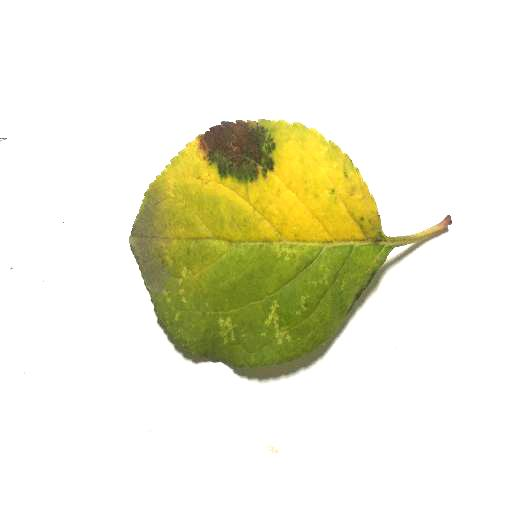Brown_Spot: (188, 118, 276, 181)
